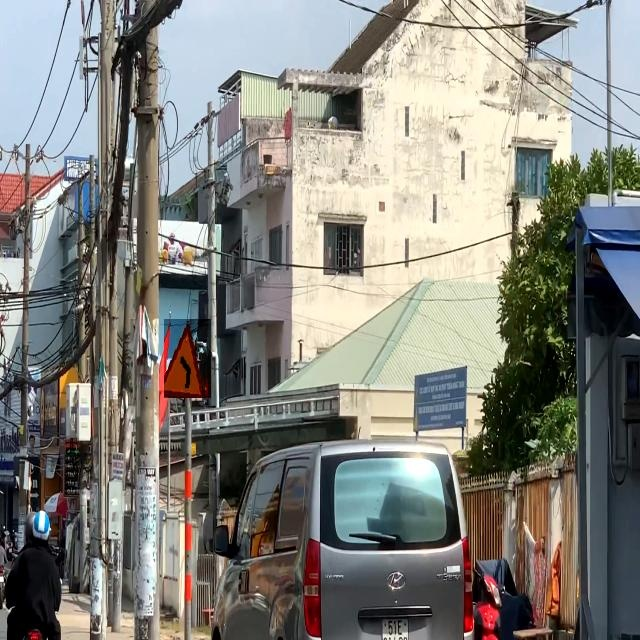bien_nguy_hiem: (164, 319, 211, 398)
